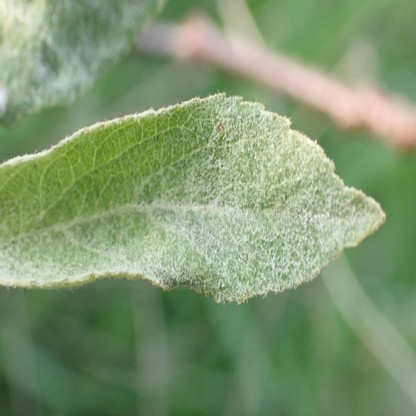powder: (0, 90, 386, 304), (0, 0, 149, 125)
